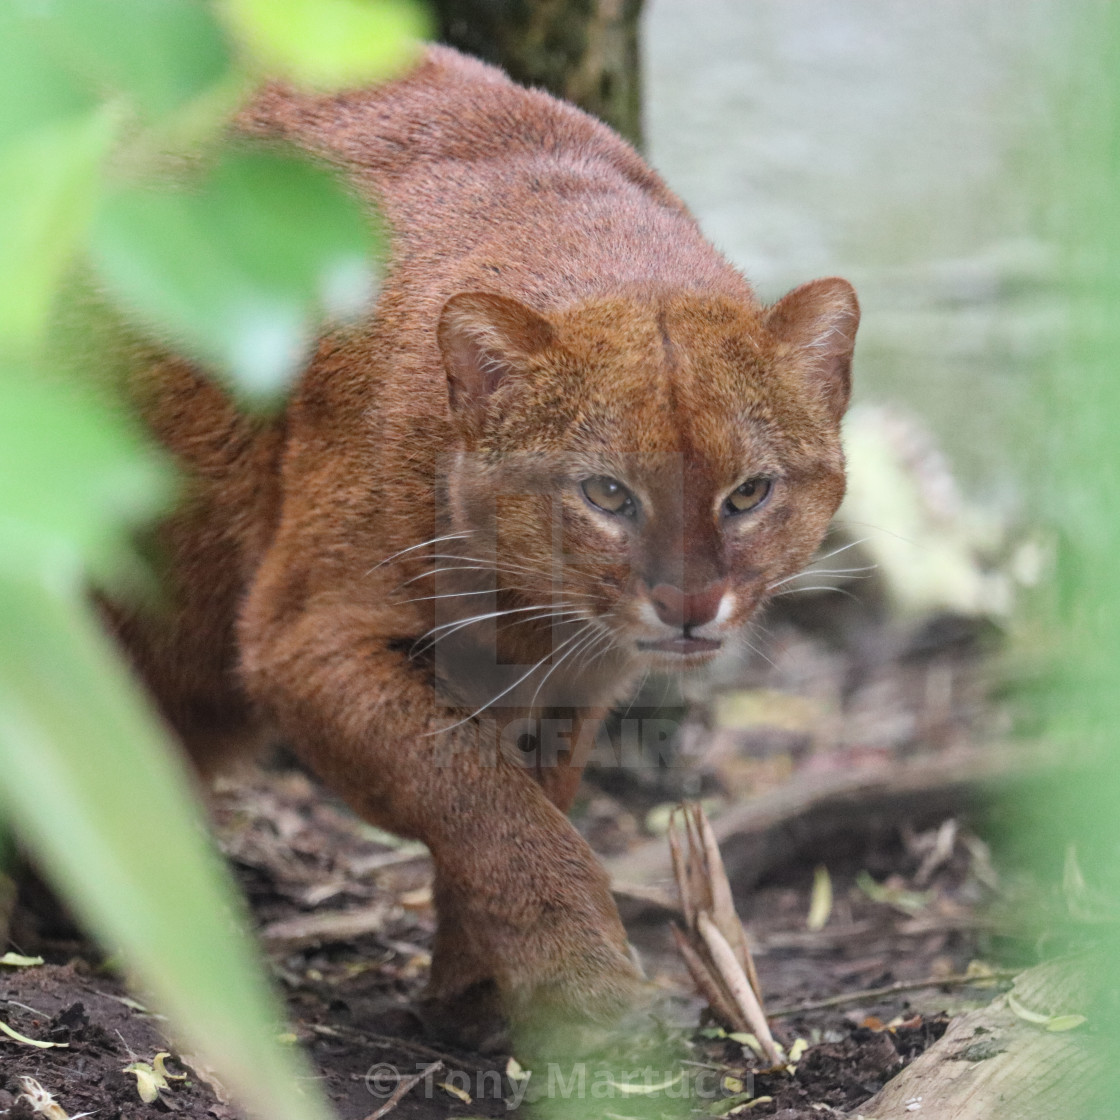Jaguarundi: (234, 49, 873, 1084)
